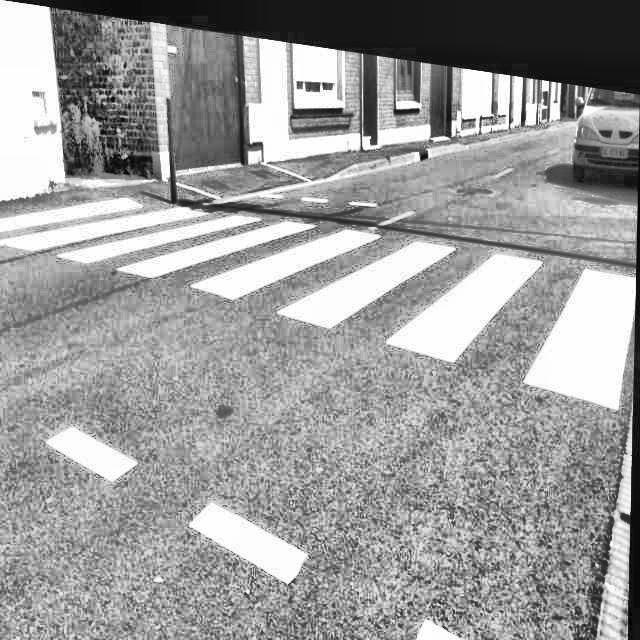faixa de pedestre: (1, 186, 629, 396)
